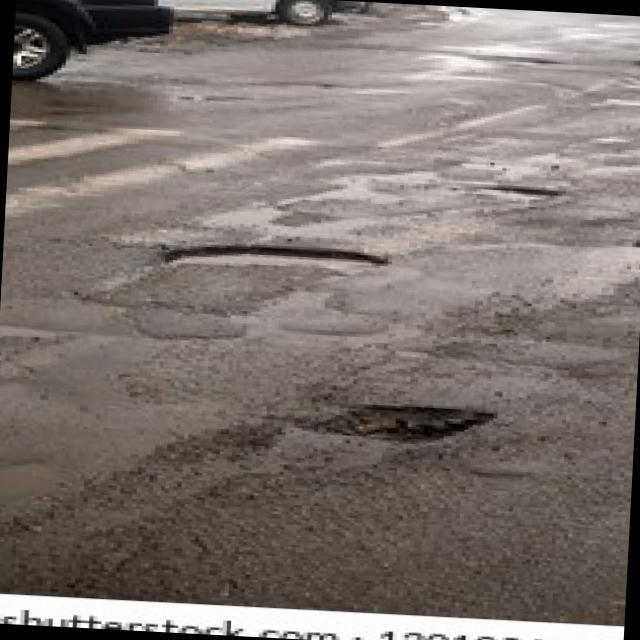Pothole: (307, 407, 499, 450), (157, 243, 380, 278)
